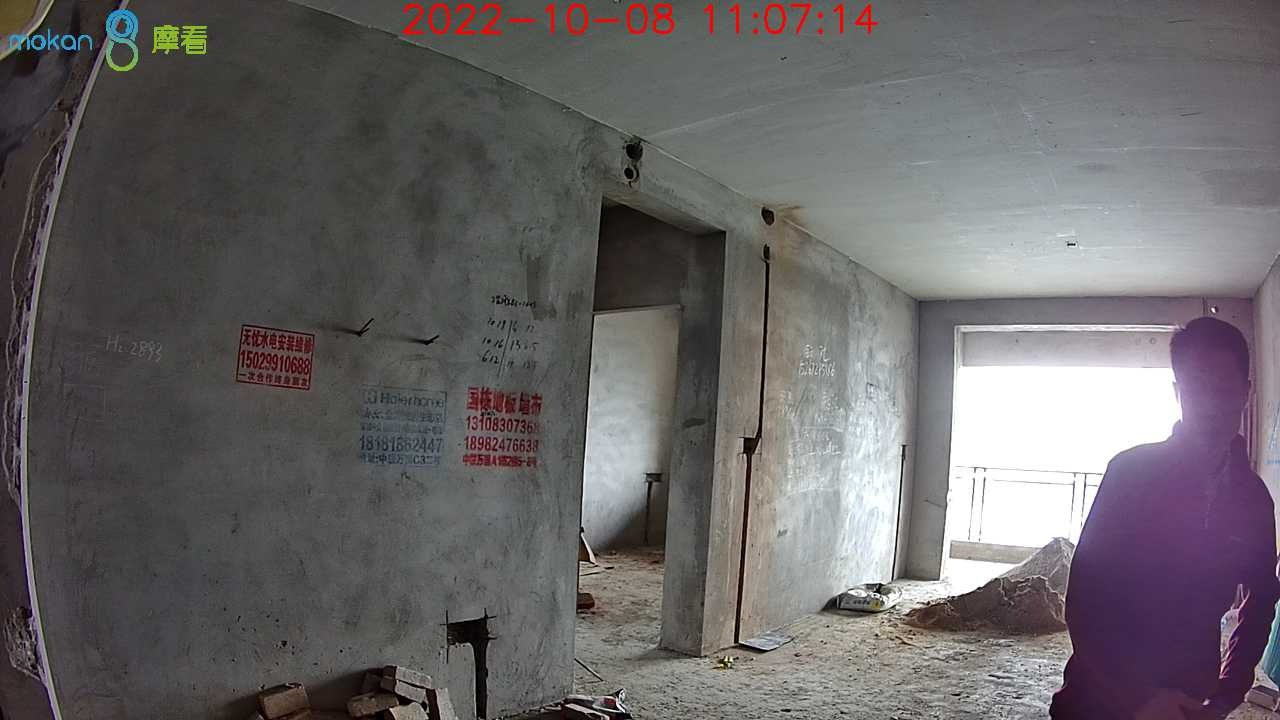people: (1048, 316, 1280, 720)
window: (951, 366, 1194, 554)
